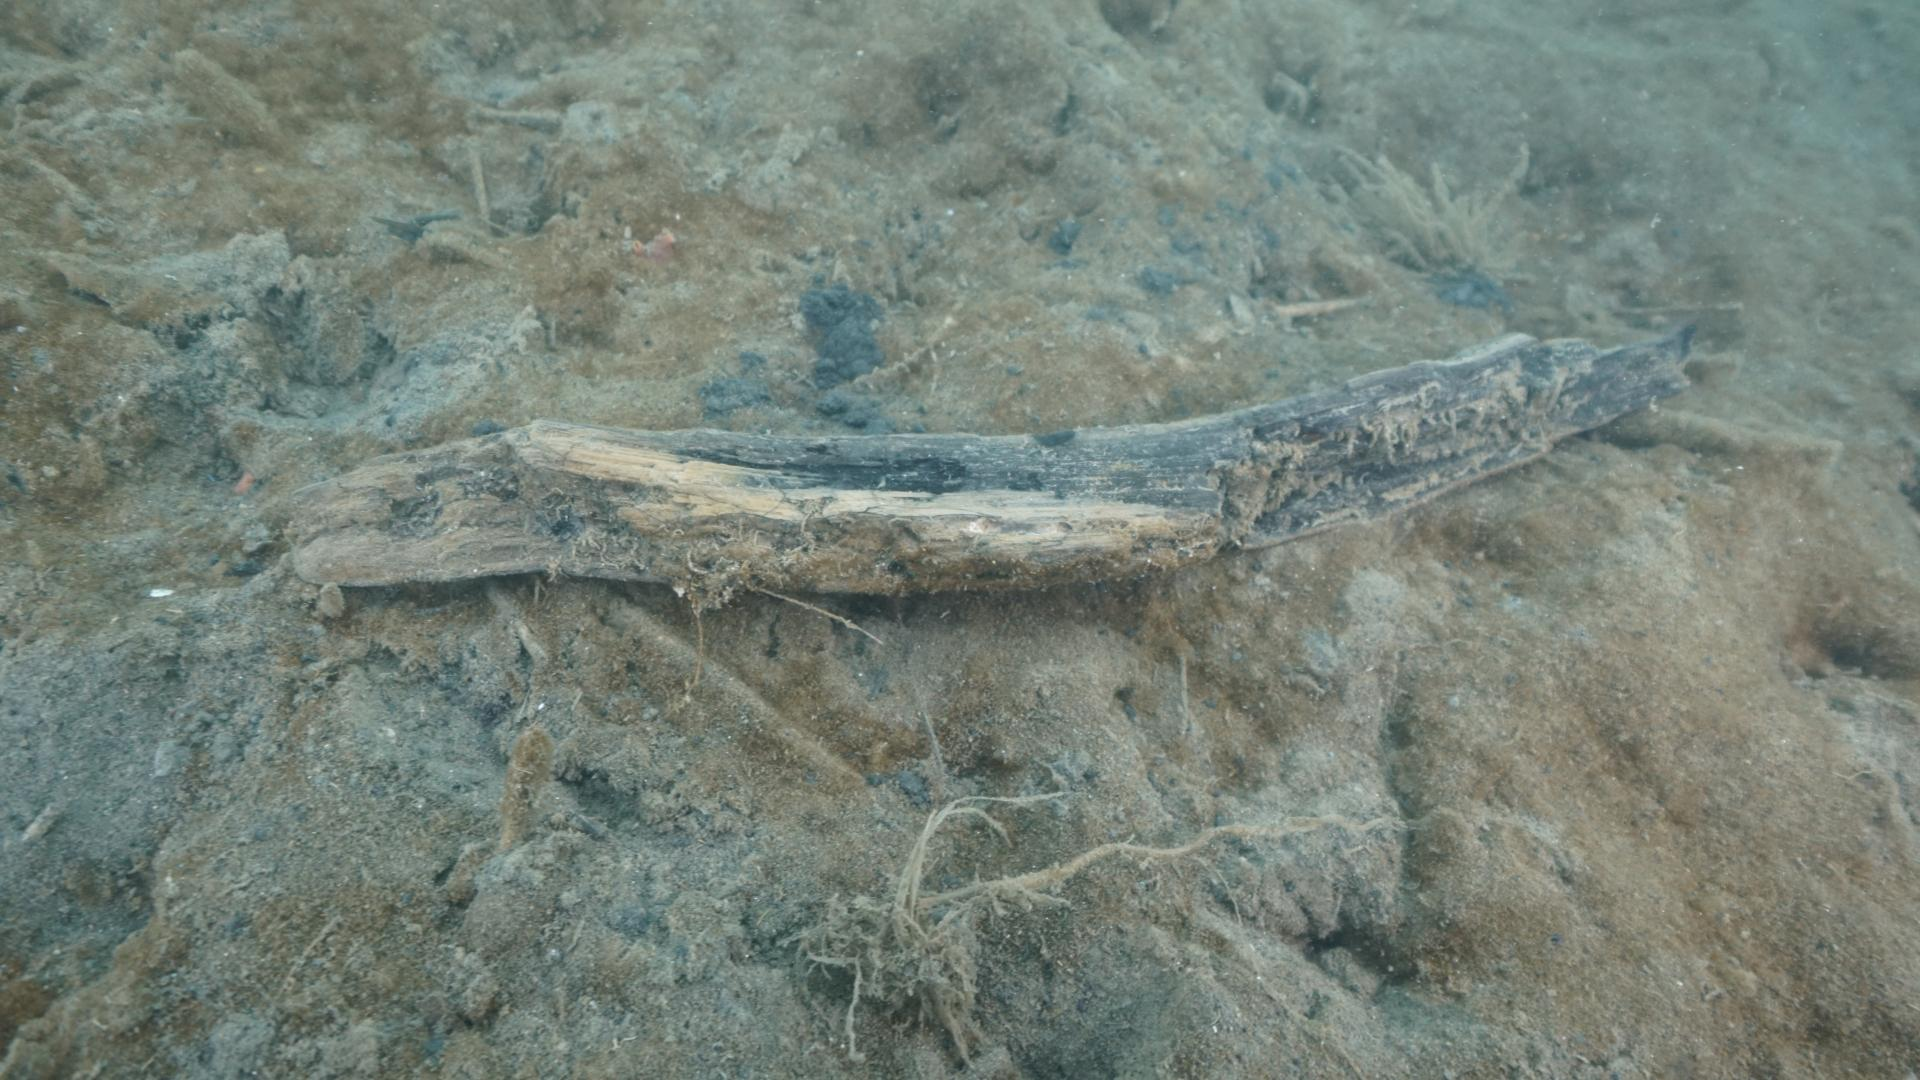wood: (284, 319, 1692, 597)
